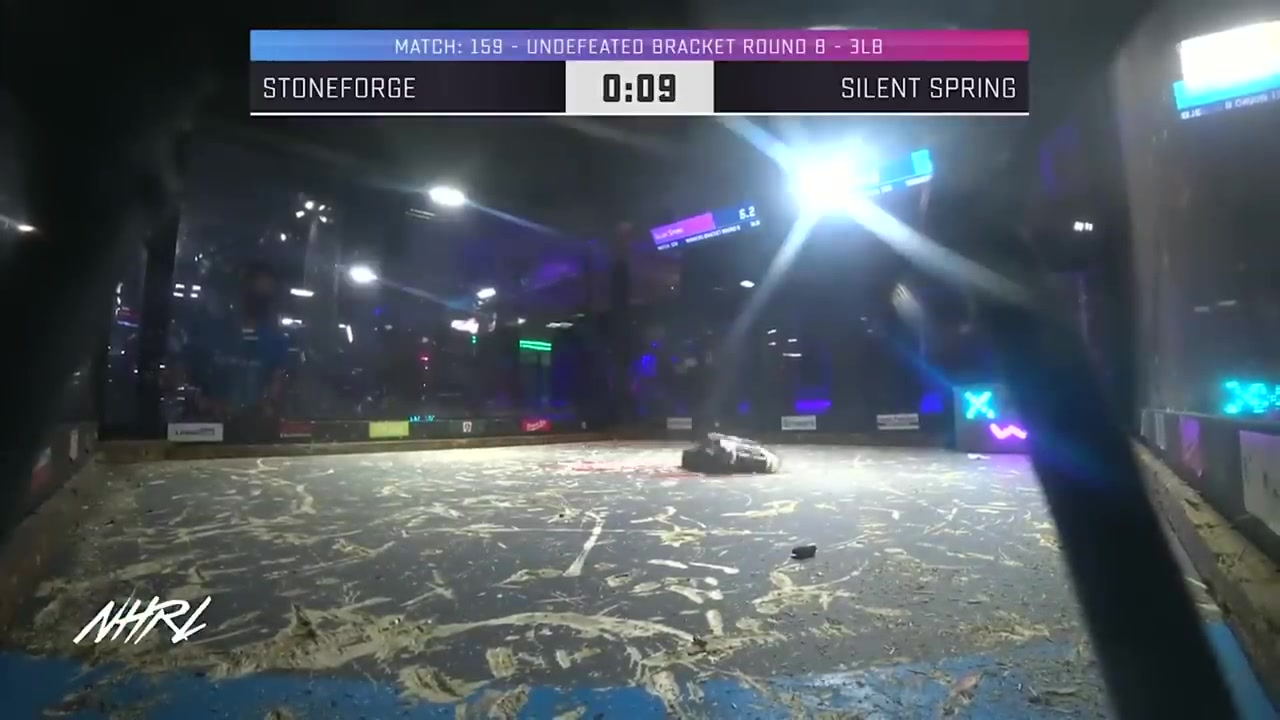combatbot: (682, 433, 781, 475)
debris: (791, 542, 818, 560)
housebot: (951, 388, 1031, 453)
